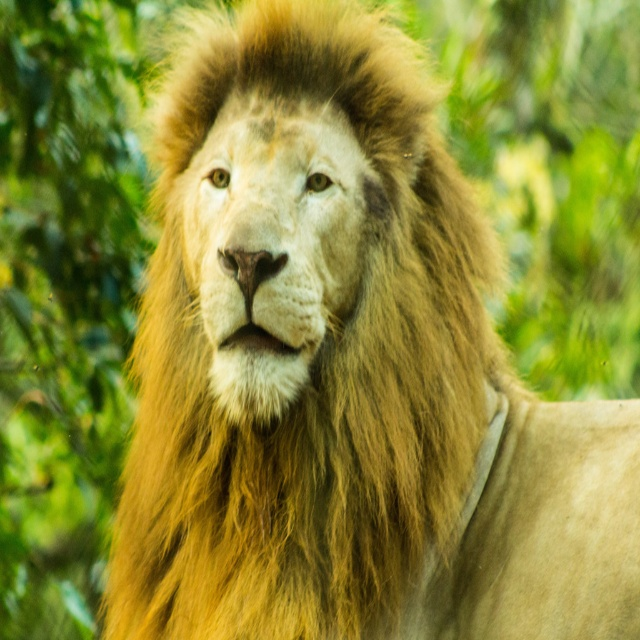Lion: (93, 1, 640, 640)
